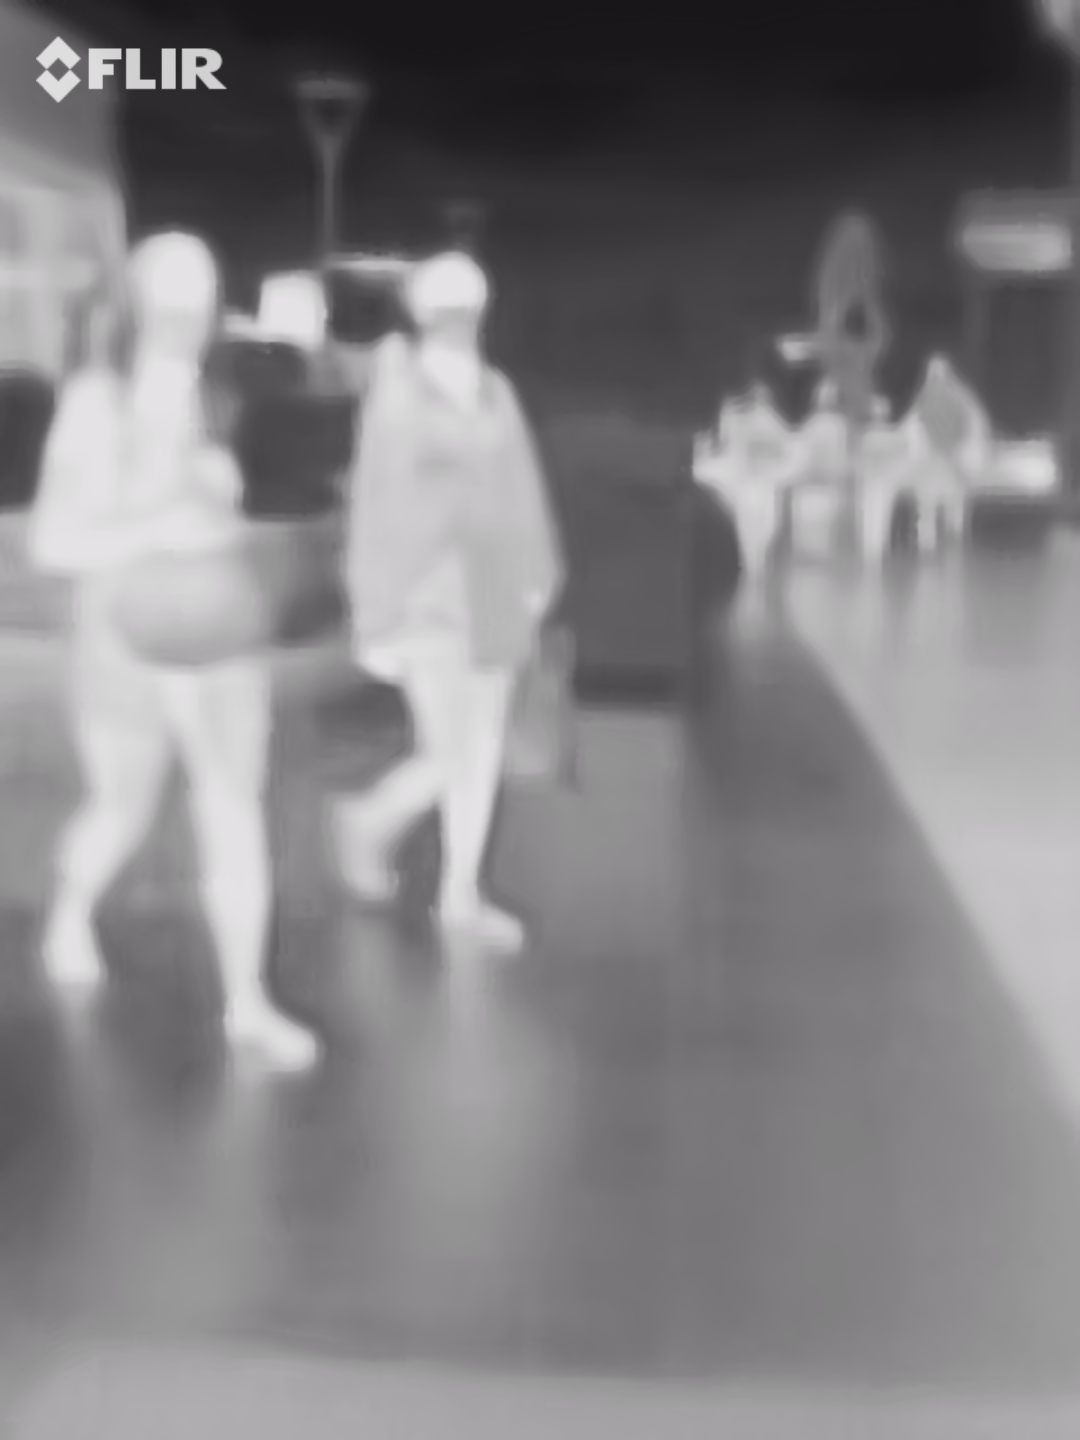head: (113, 227, 227, 365), (398, 245, 494, 366)
